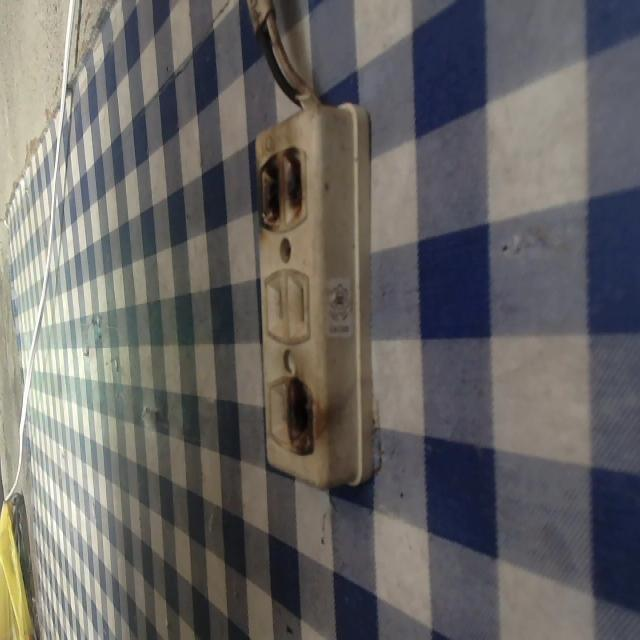-: (245, 143, 315, 237), (283, 372, 324, 463)
